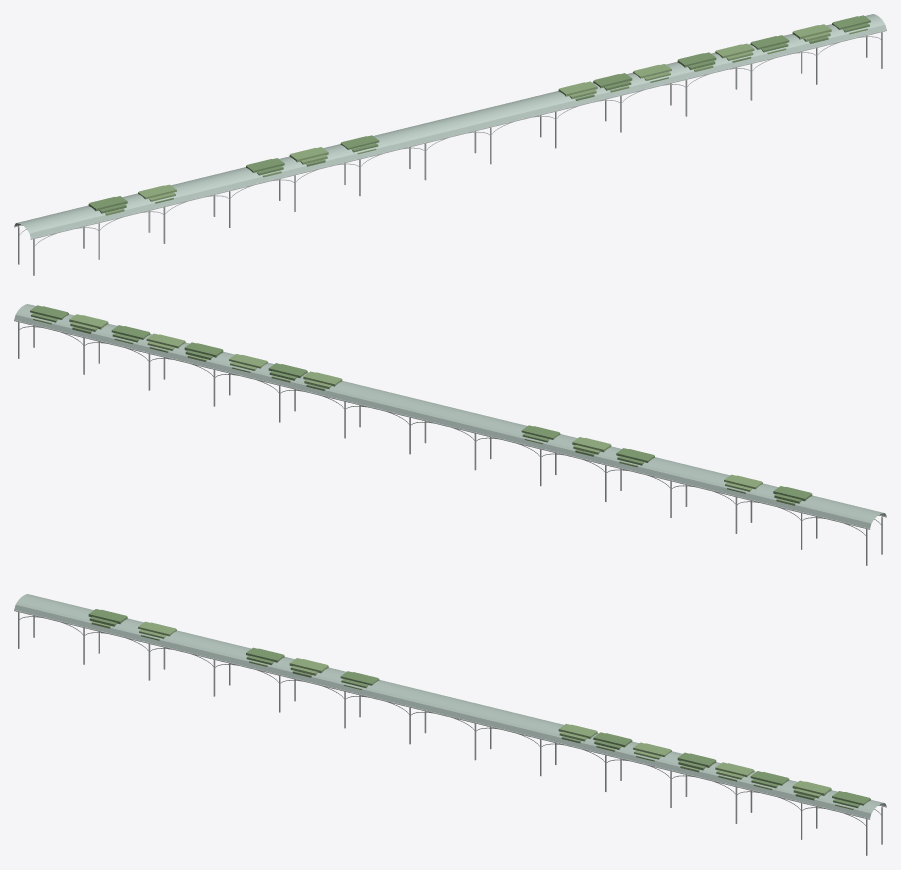
3 views of the same model, one above another, from view 1: azimuth 30°, elevation 25°; view 2: azimuth 150°, elevation 25°; view 3: azimuth 330°, elevation 25° (orthographic).
Parts seen in each view (by area): view 1: walkway__canopy, walkway__canopyglass, walkway__steel, walkway__vine, walkway__vineLight; view 2: walkway__canopy, walkway__canopyglass, walkway__steel, walkway__vine, walkway__vineLight; view 3: walkway__canopy, walkway__canopyglass, walkway__steel, walkway__vine, walkway__vineLight.
Part boxes in pixels (x1=…): walkway__canopy: x1=17, y1=14, x2=884, y2=233; walkway__canopyglass: x1=14, y1=25, x2=886, y2=238; walkway__steel: x1=14, y1=30, x2=886, y2=275; walkway__vine: x1=88, y1=15, x2=870, y2=213; walkway__vineLight: x1=105, y1=24, x2=867, y2=215; walkway__canopy: x1=16, y1=304, x2=883, y2=523; walkway__canopyglass: x1=14, y1=315, x2=886, y2=528; walkway__steel: x1=14, y1=320, x2=886, y2=565; walkway__vine: x1=30, y1=305, x2=812, y2=503; walkway__vineLight: x1=33, y1=314, x2=795, y2=505; walkway__canopy: x1=16, y1=594, x2=883, y2=813; walkway__canopyglass: x1=14, y1=605, x2=886, y2=818; walkway__steel: x1=14, y1=610, x2=886, y2=855; walkway__vine: x1=88, y1=609, x2=870, y2=808; walkway__vineLight: x1=91, y1=621, x2=853, y2=809.
Bounding box in the file's own units: 65 × 3.46 × 2.25.
